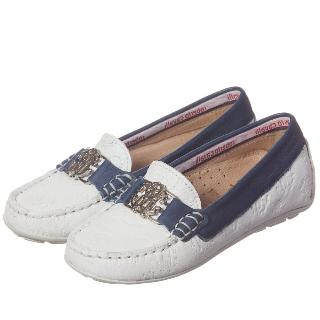loafers: (0, 83, 320, 290)
